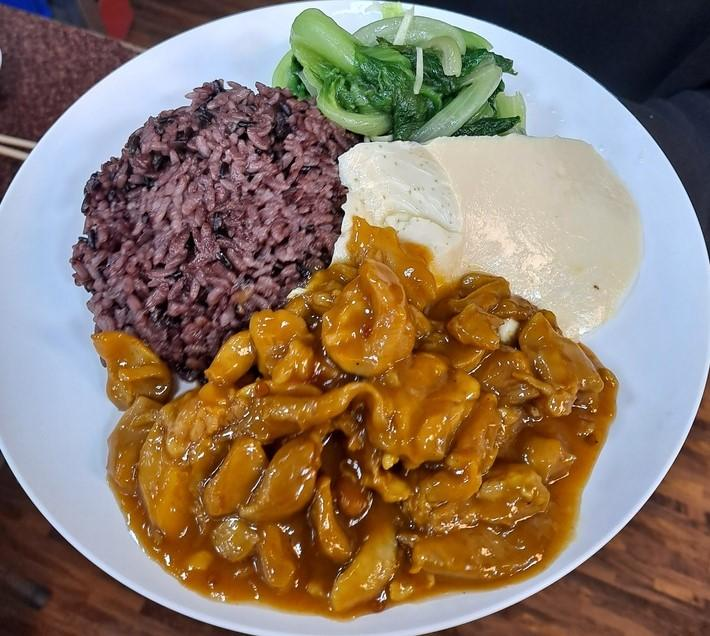big fried chicken leg: (3, 1, 710, 636)
braised fish: (65, 77, 343, 374)
braised fish fillet: (327, 133, 642, 334), (267, 2, 528, 140)
braised pork: (92, 216, 617, 615)
